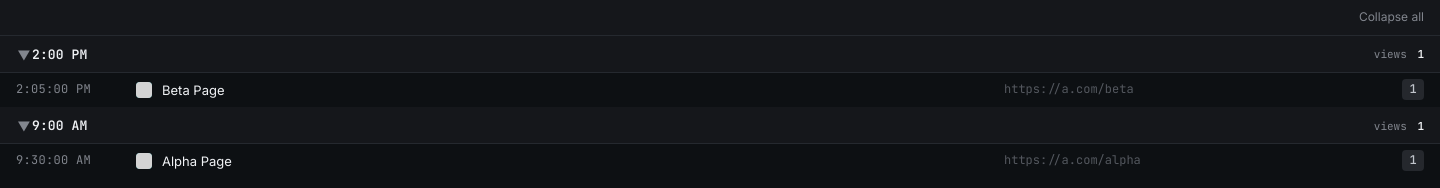
Test: DayView — collapse all / expand all › hides all rows after clicking 'Collapse all'
Click the button "Collapse all": (1391, 18) [1359,9,1424,26]
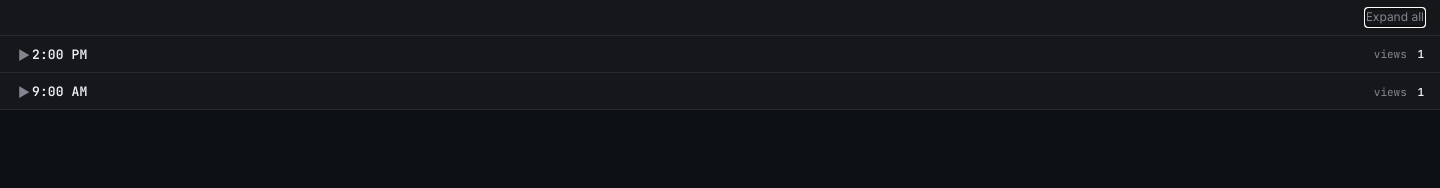
Expected: the link "Alpha Page" is gone
Expected: the link "Beta Page" is gone
